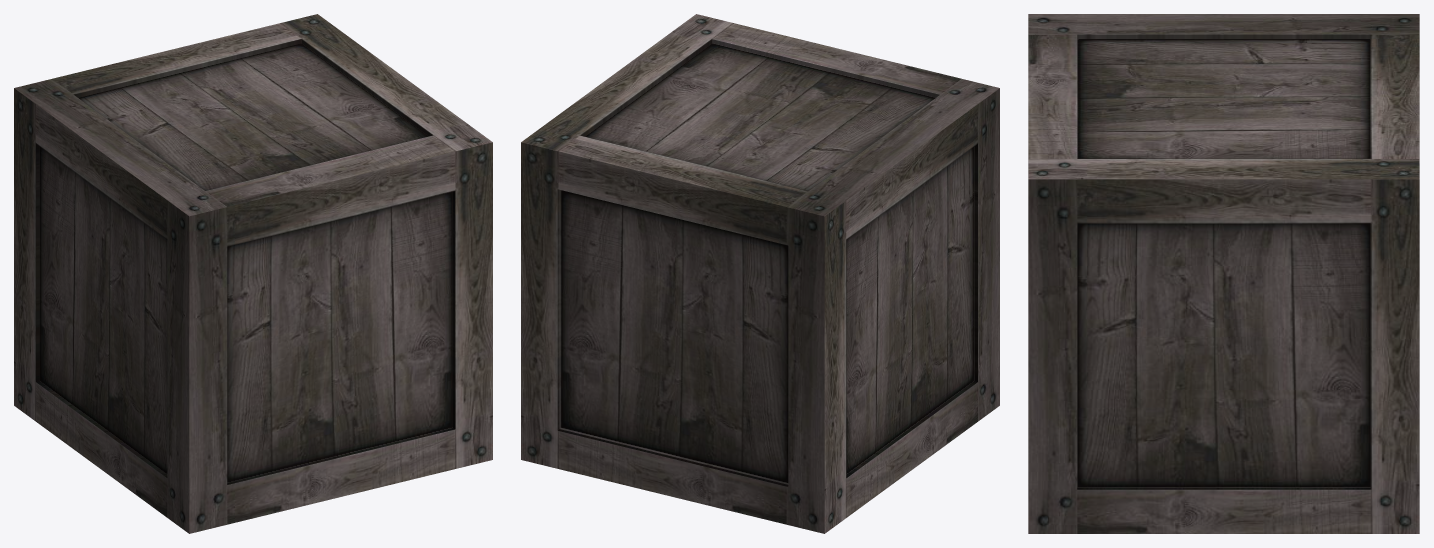
The model's file is TestCrateWorking.fbx.
3 views of the same model, side by side, from view 1: azimuth 30°, elevation 25°; view 2: azimuth 150°, elevation 25°; view 3: azimuth 270°, elevation 25° (orthographic). The views are drawn at different scales.
Parts seen in each view (by area): view 1: Cube; view 2: Cube; view 3: Cube.
Boxes of the visible parts, box(x1,y1,x2,y2) form: Cube: box(14, 14, 492, 533); Cube: box(521, 14, 999, 533); Cube: box(1028, 14, 1419, 533).
Bounding box in the file's own units: 400 × 400 × 400.
1 material, 1 textured.
